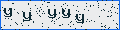y: (22, 12, 33, 22), (75, 14, 85, 25), (47, 9, 57, 19), (61, 9, 71, 19), (4, 8, 13, 17)
